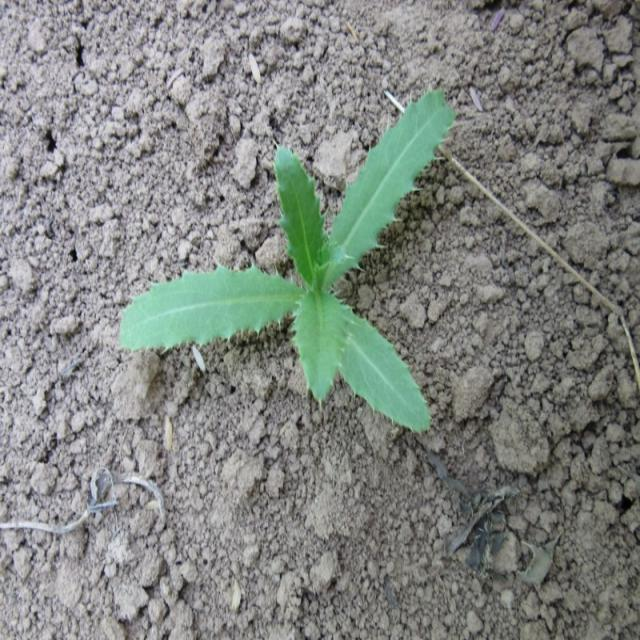field_thistle: (145, 61, 449, 452)
